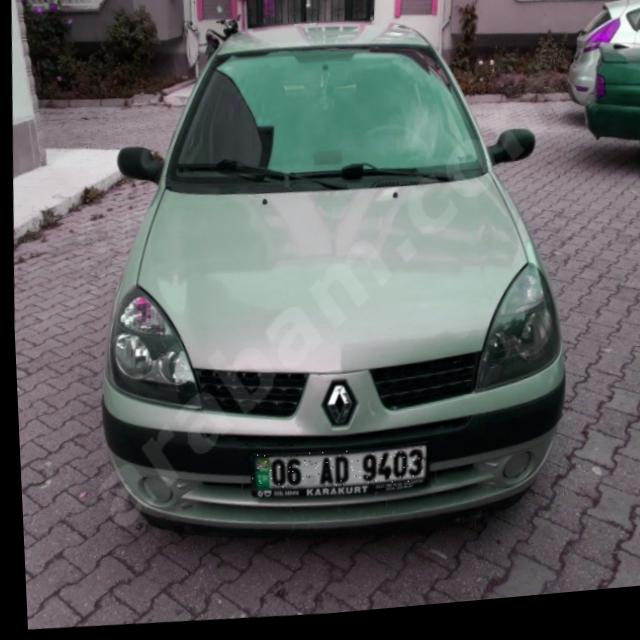license_plate: (247, 447, 423, 501)
